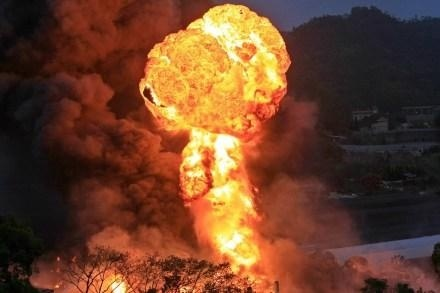fire: (134, 8, 294, 272), (98, 268, 132, 293)
